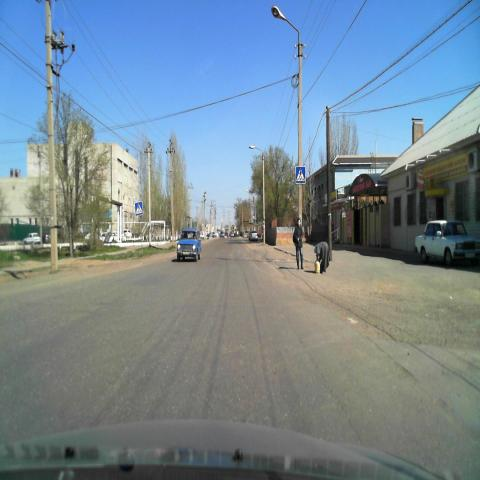5_19_1: (296, 165, 306, 183), (134, 201, 144, 216)
